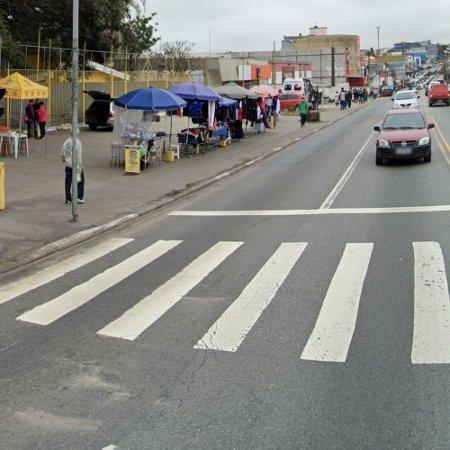crosswalks: (0, 234, 450, 369)
